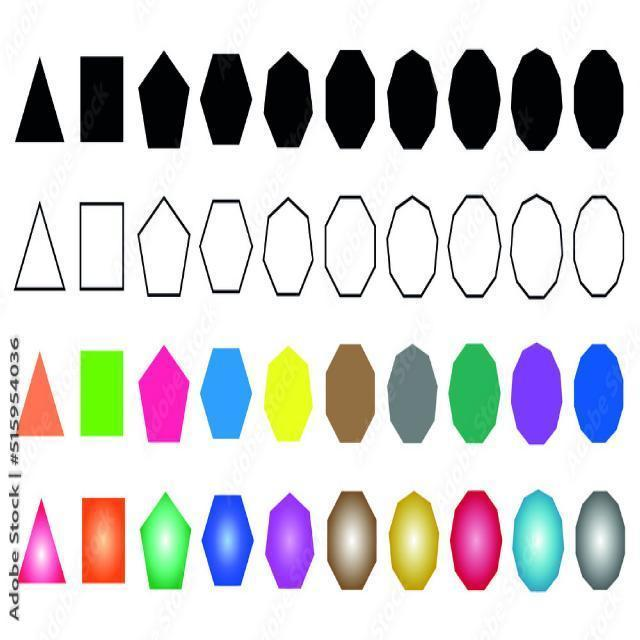square: (69, 40, 138, 164), (72, 340, 136, 457), (72, 486, 138, 594), (76, 188, 134, 307)
triangle: (9, 493, 75, 611), (12, 343, 77, 456), (8, 53, 70, 169), (13, 193, 71, 303)
